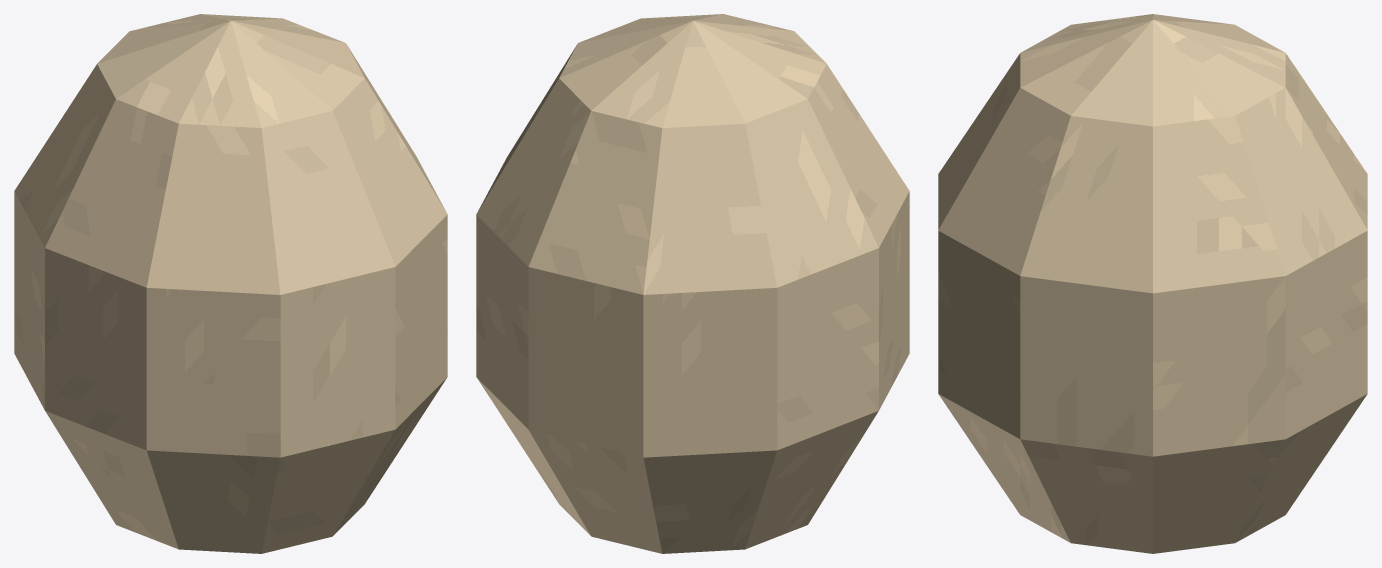
File: egg_bird_unfert.glb
3 views of the same model, side by side, from view 1: azimuth 30°, elevation 25°; view 2: azimuth 150°, elevation 25°; view 3: azimuth 270°, elevation 25° (orthographic).
Parts seen in each view (by area): view 1: block_main fruit or shell; view 2: block_main fruit or shell; view 3: block_main fruit or shell.
Part boxes in pixels (x1=…): block_main fruit or shell: x1=14, y1=14, x2=447, y2=553; block_main fruit or shell: x1=476, y1=14, x2=909, y2=553; block_main fruit or shell: x1=938, y1=14, x2=1367, y2=553.
Size of the model in its own units: 0.0399 by 0.054 by 0.0398.
Materials: 1 (1 with a texture image).
